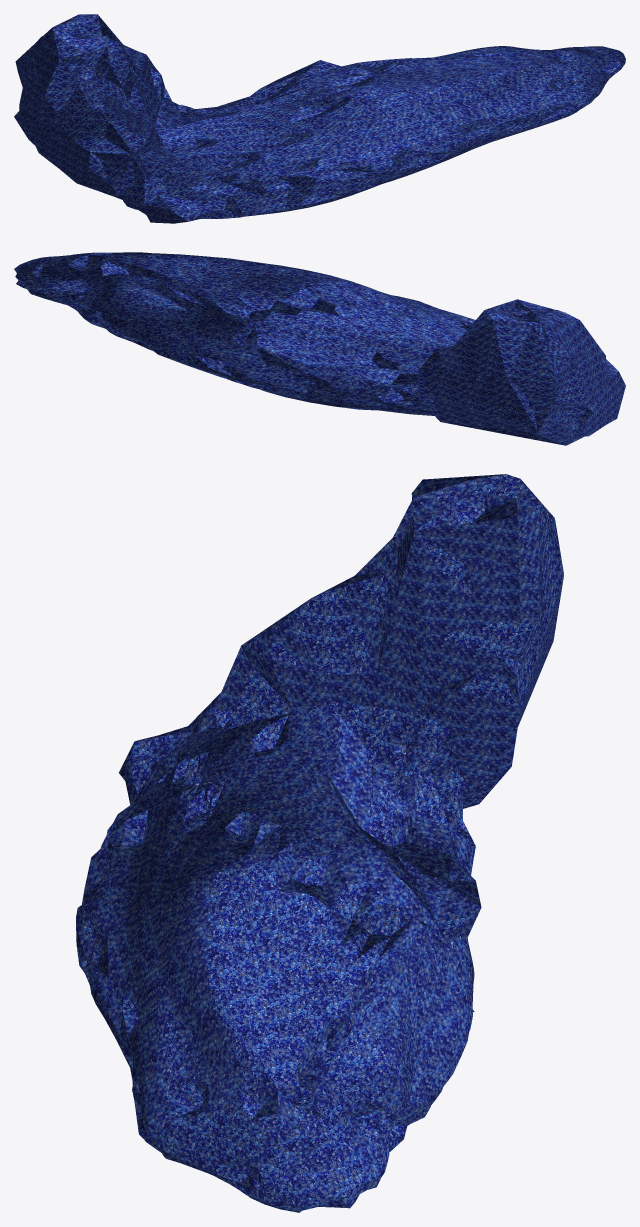
File: MeteCob.glb
3 views of the same model, one above another, from view 1: azimuth 30°, elevation 25°; view 2: azimuth 150°, elevation 25°; view 3: azimuth 270°, elevation 25° (orthographic). The views are drawn at different scales.
Visible parts, largest first — view 1: Group1; view 2: Group1; view 3: Group1.
Boxes of the visible parts, box(x1,y1,x2,y2) form: Group1: box(14, 14, 625, 223); Group1: box(14, 252, 625, 445); Group1: box(76, 474, 563, 1212).
Bounding box in the file's own units: 2.25 × 0.6155 × 0.8449.
Materials: 20 (19 with a texture image).
